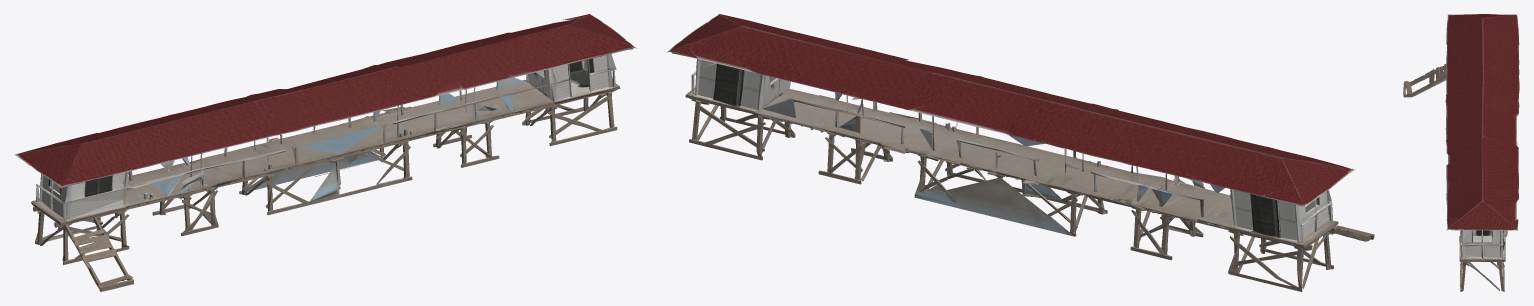
Rendered from rescue-hut.glb.
The picture shows the model from 3 angles, left to right: view 1: azimuth 30°, elevation 25°; view 2: azimuth 150°, elevation 25°; view 3: azimuth 270°, elevation 25°; orthographic projection. The views are drawn at different scales.
Parts seen in each view (by area): view 1: Mesh_0; view 2: Mesh_0; view 3: Mesh_0.
Part boxes in pixels (x1,y1,x2,y2): Mesh_0: (14, 14, 637, 291); Mesh_0: (666, 14, 1374, 291); Mesh_0: (1403, 14, 1519, 291).
Size of the model in its own units: 1.9 by 0.3255 by 0.4325.
Materials: 1 (1 with a texture image).
